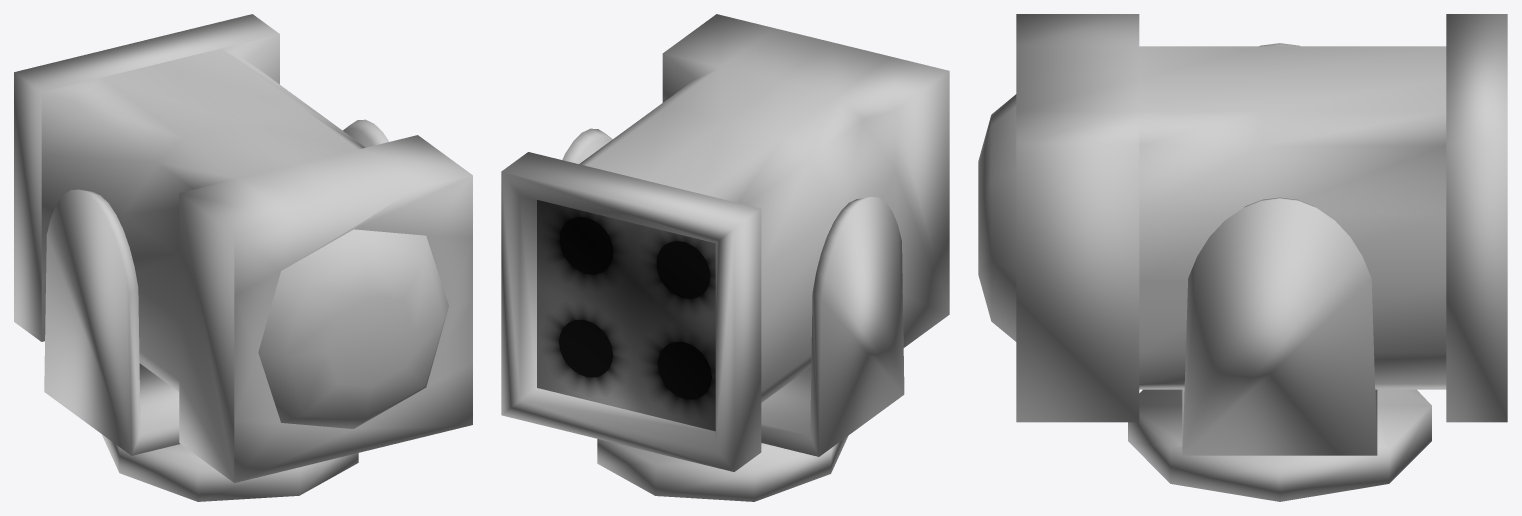
Rendered from rocket_launcher.fbx.
The picture shows the model from 3 angles, left to right: view 1: azimuth 30°, elevation 25°; view 2: azimuth 150°, elevation 25°; view 3: azimuth 270°, elevation 25°; orthographic projection. The views are drawn at different scales.
Parts seen in each view (by area): view 1: Launcher, Mount; view 2: Launcher, Mount; view 3: Launcher, Mount.
Part boxes in pixels (left/top/right/bottom): Launcher: left=14, top=14, right=472, bottom=482; Mount: left=44, top=119, right=389, bottom=501; Launcher: left=501, top=14, right=949, bottom=471; Mount: left=562, top=128, right=904, bottom=501; Launcher: left=978, top=14, right=1507, bottom=422; Mount: left=1128, top=43, right=1431, bottom=501.
Bounding box in the file's own units: 2.4 × 2.62 × 3.45.
